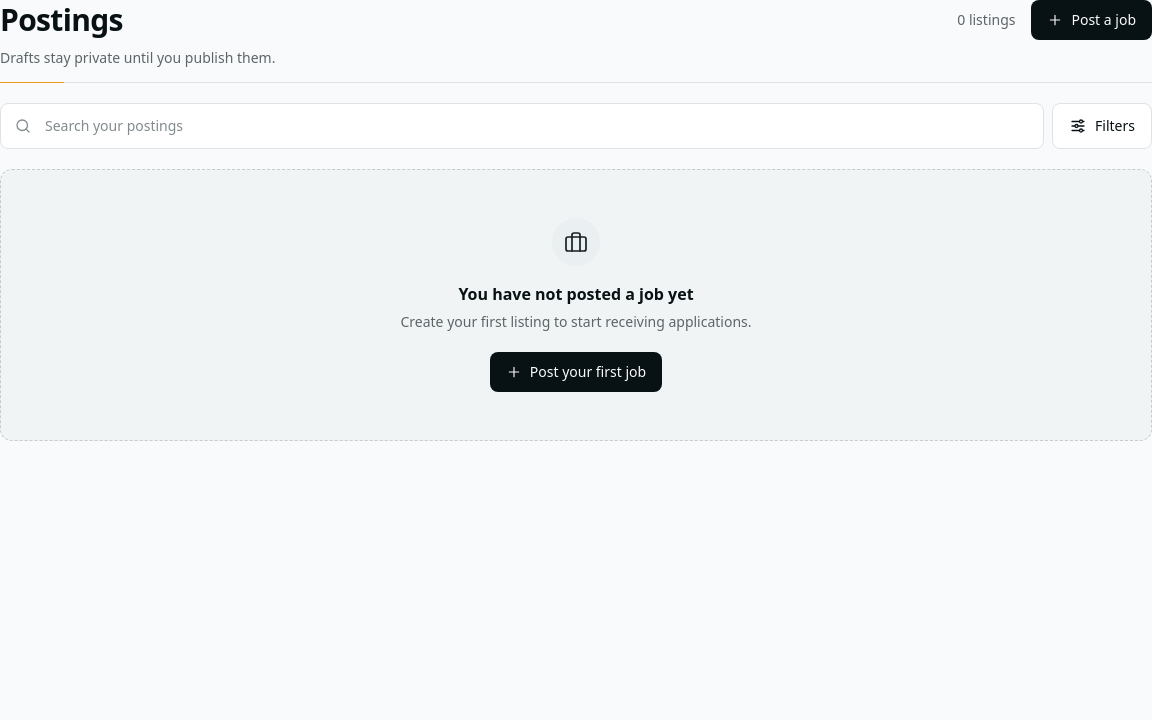
Test: HrJobsPage › refuses a CTC ceiling below the floor before the round trip
Check: the text "You have not posted a job yet" is shown, box [458,283,694,305]
Click the button "Post a job" at [1092, 20], box [1032,0,1151,40]
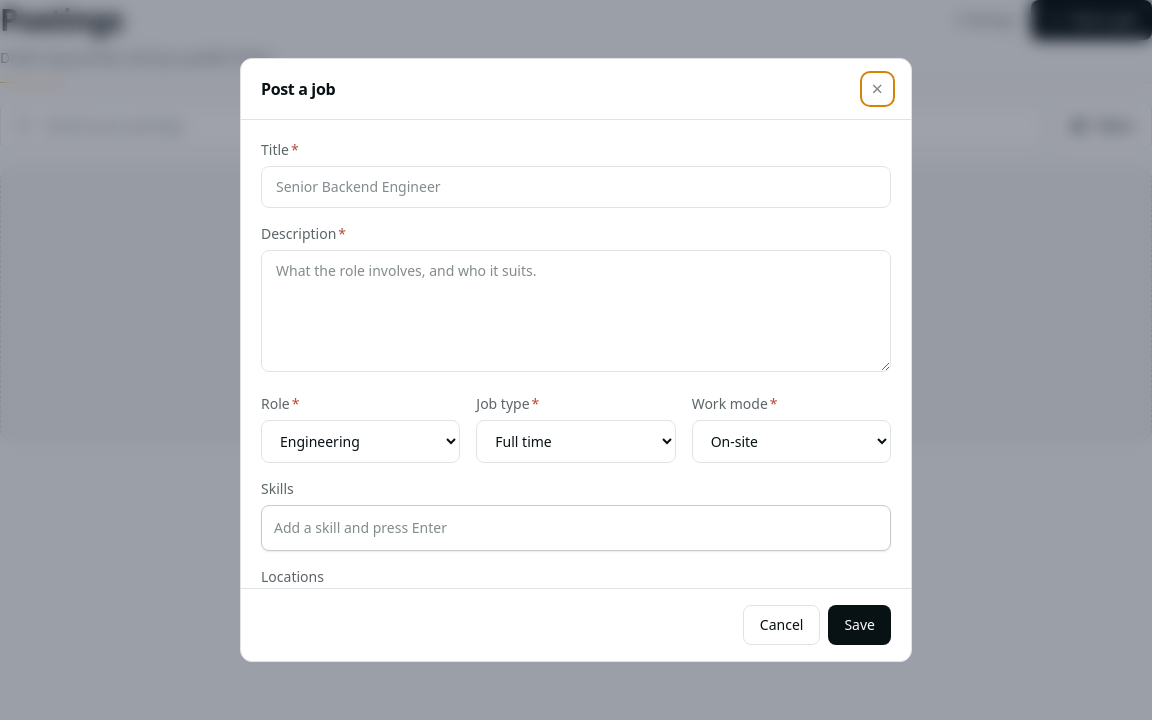
Type "Staff Engineer" into the field labelled "Title*" at [576, 187], box [261,166,891,208]
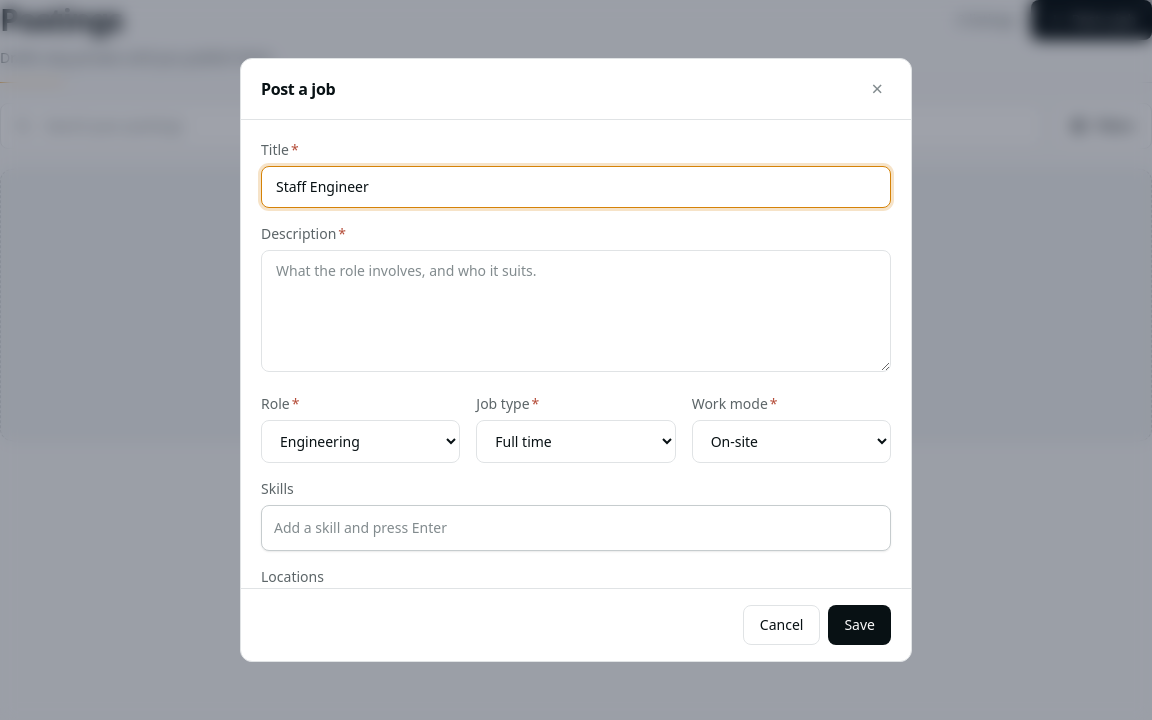
Type "Lead the platform team." into the text box labelled "Description*" at [576, 311], box [261,250,891,372]
(page scrolled)
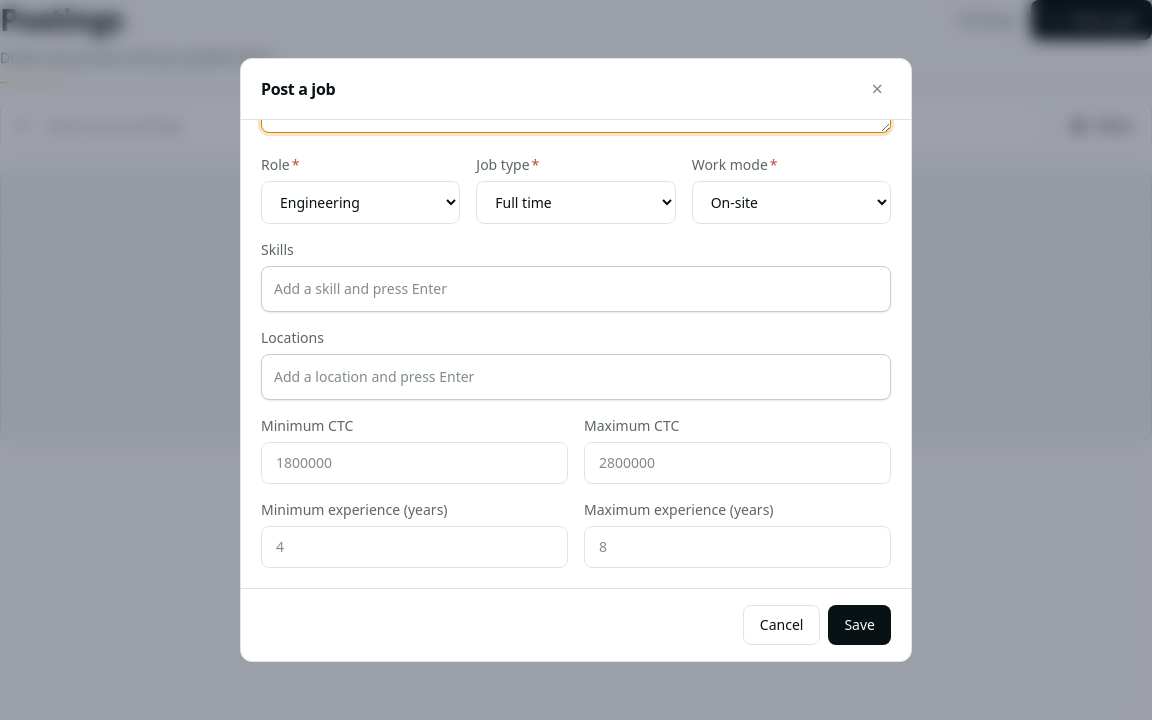
Type "3000000" into the field labelled "Minimum CTC" at [414, 463], box [261,442,568,484]
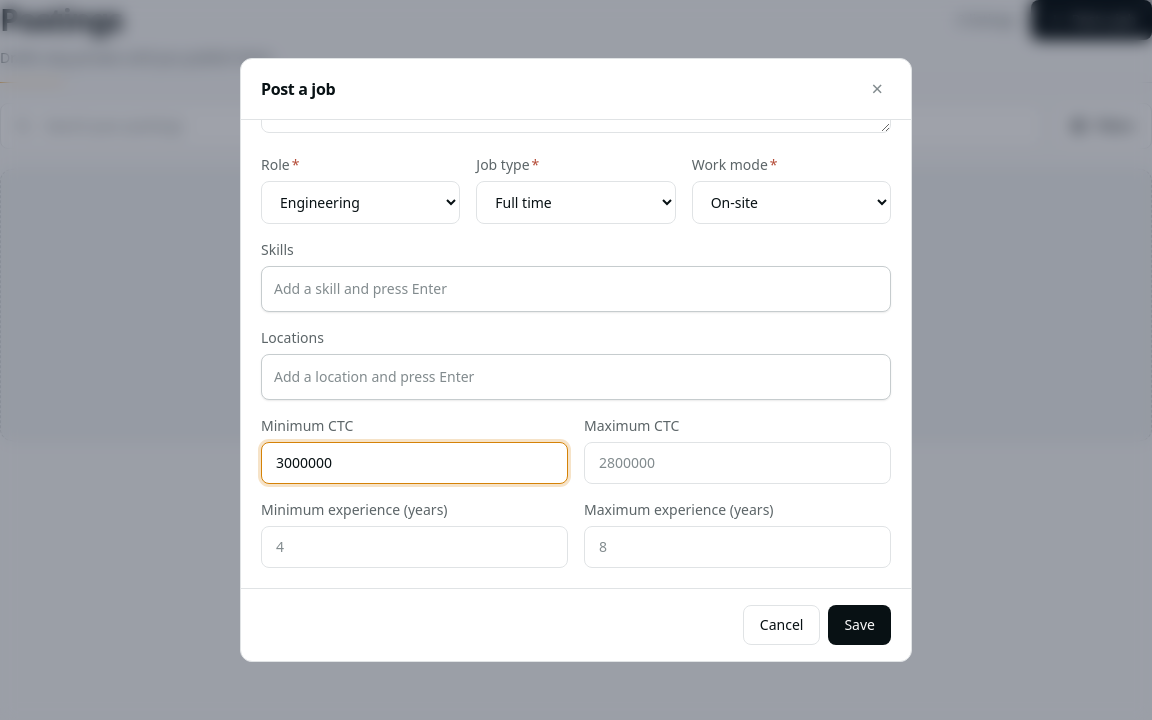
Type "1000000" into the field labelled "Maximum CTC" at [738, 463], box [584,442,891,484]
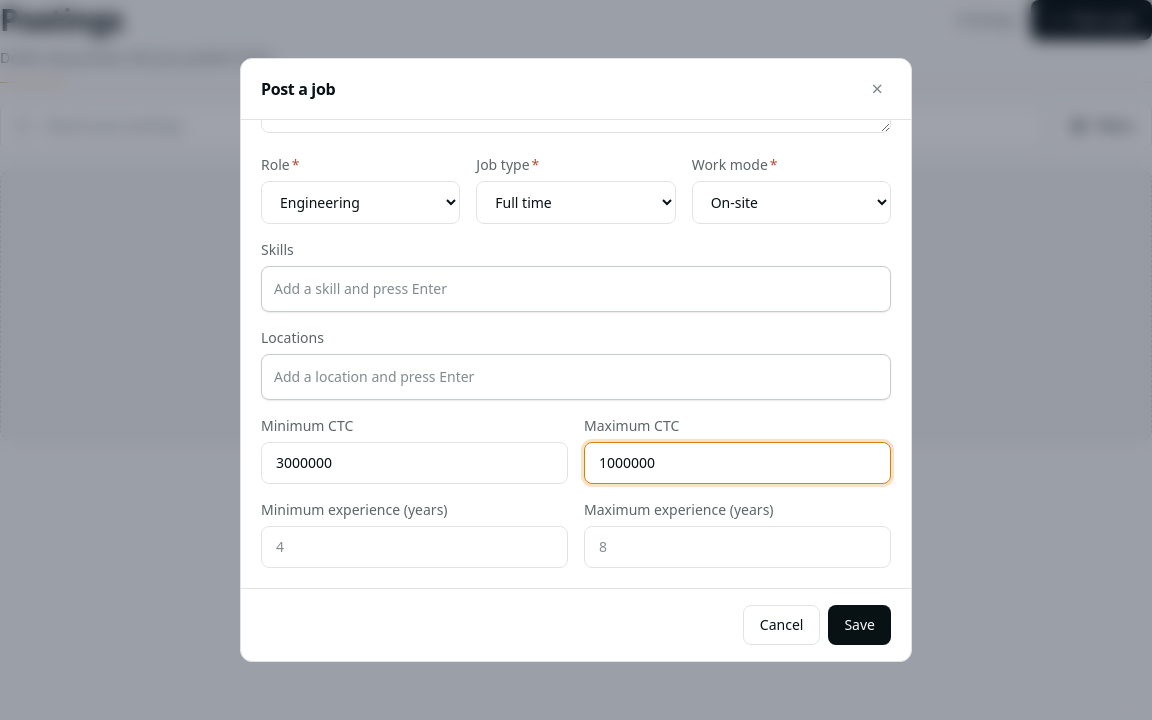
Click the button "Save" at [860, 625], box [828,605,891,645]
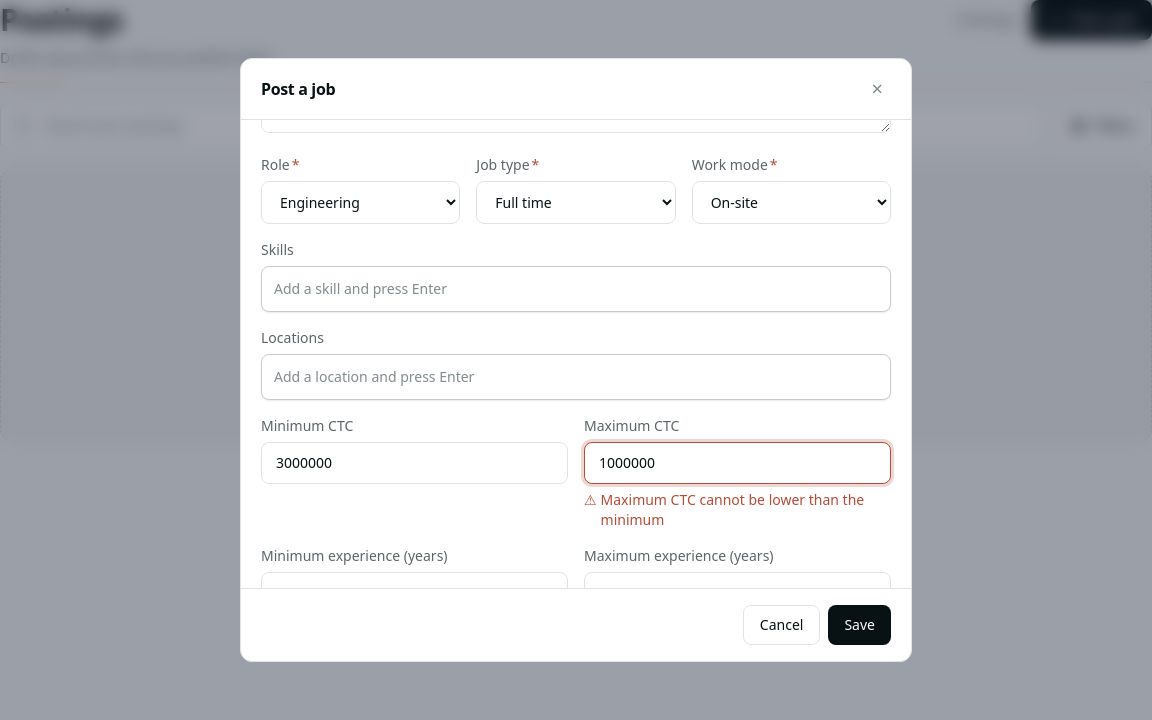
Check: the text "Maximum CTC cannot be lower than the minimum" is shown, box [601,490,891,530]
